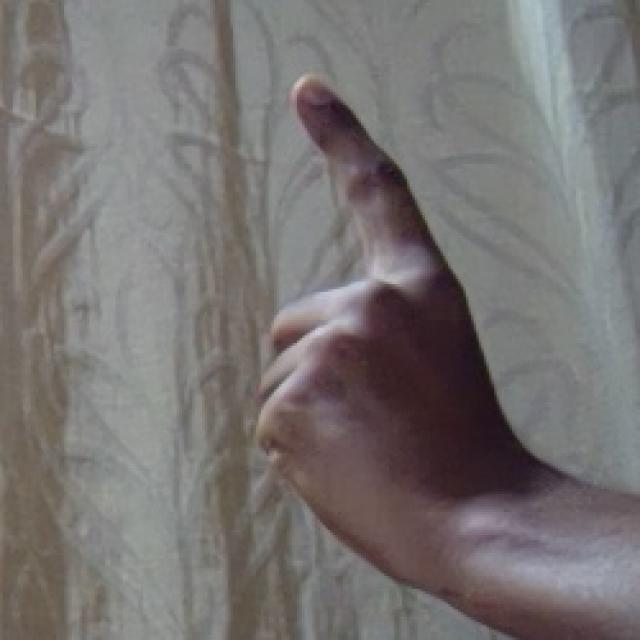Alphabet-I: (202, 74, 514, 578)
